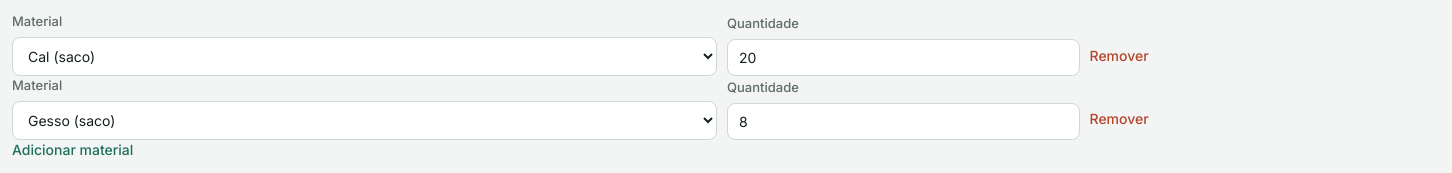
Test: ItensMateriaisPrevistos › remove a linha escolhida e mantém as outras
Click the button with aria-label "Remover material" at [1119, 55], box [1090,46,1442,76]
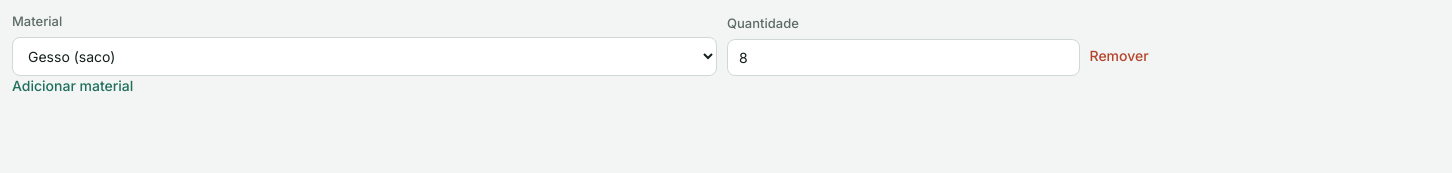
expect the number of dropdowns labelled "Material" is 1: met, box [12,37,717,76]
expect the dropdown labelled "Material" shows "Gesso (saco)": met, box [12,37,717,76]
expect the number field labelled "Quantidade" holds "8": met, box [727,39,1080,76]
